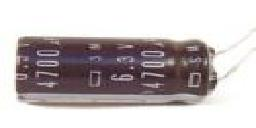Electrolytic-Capacitor: (11, 32, 256, 106)
